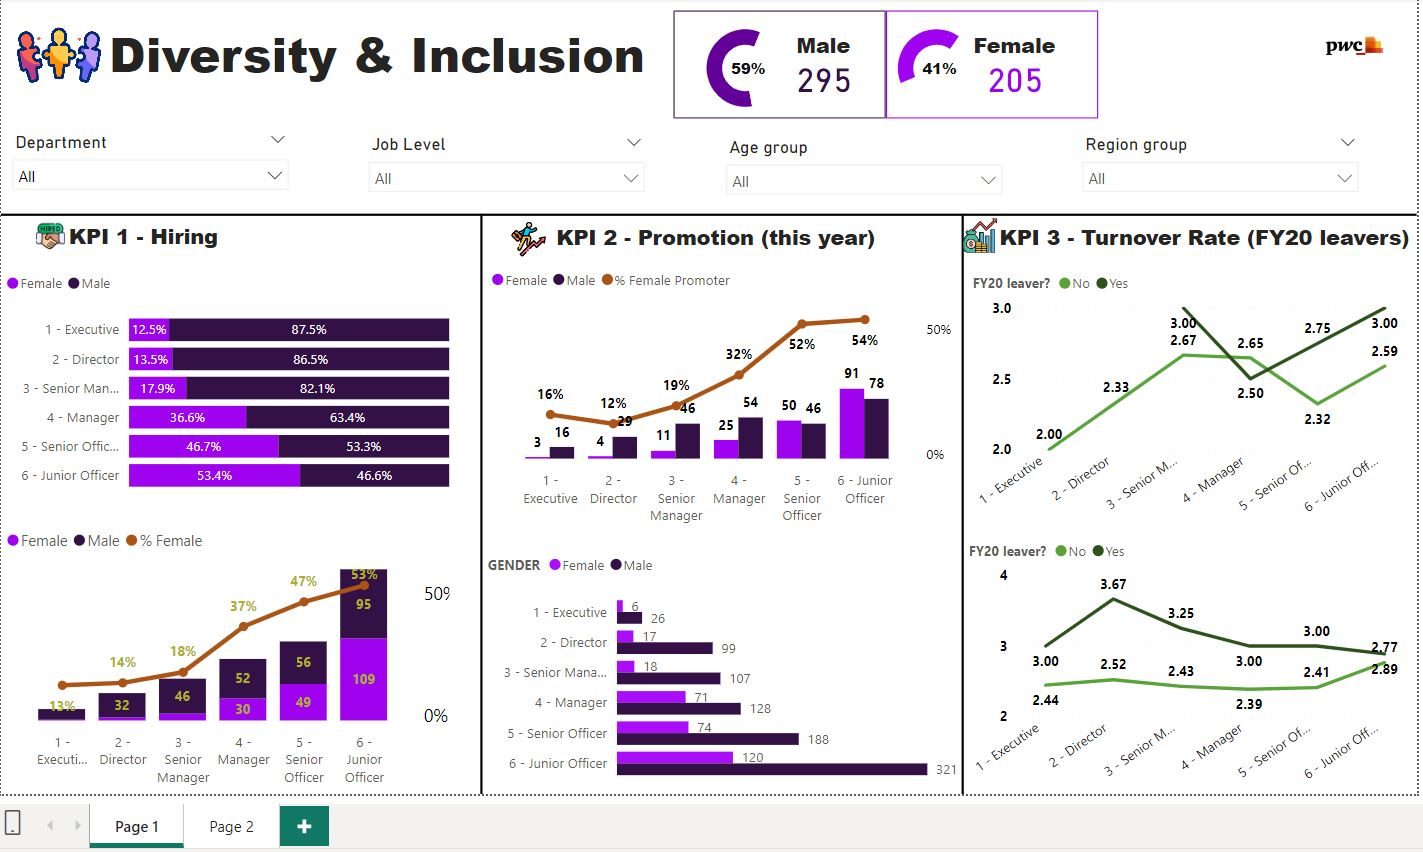

This screenshot's page, from the dashboard's own definition file:
{"tool":"powerbi","page":{"name":"Page 1","canvas":[1280,720],"ordinal":0},"visuals":[{"type":"shape","box":[800,11.6,191.9,97.7],"z":0},{"type":"card","fields":{"Values":["All Measurement.Total Male"]},"box":[694.2,44.2,101.2,57],"z":0,"group":"g1"},{"type":"card","fields":{"Values":["All Measurement.Female"]},"box":[866.3,44.2,101.2,57],"z":0,"group":"g2"},{"type":"textbox","box":[93,15.1,515.1,75.6],"z":1000},{"type":"donutChart","fields":{"Category":["Pharma Group AG.Gender"],"Y":["CountNonNull(Pharma Group AG.Employee ID)"]},"box":[623.3,15.1,100.9,97.7],"z":1000,"group":"g1"},{"type":"donutChart","fields":{"Category":["Pharma Group AG.Gender"],"Y":["CountNonNull(Pharma Group AG.Employee ID)"]},"box":[795.4,15.1,100.9,97.7],"z":1000,"group":"g2"},{"type":"textbox","box":[690.7,24.4,109.3,39.5],"z":2000,"group":"g1"},{"type":"textbox","box":[862.8,24.4,109.3,39.5],"z":2000,"group":"g2"},{"type":"slicer","fields":{"Values":["Pharma Group AG.Last Department in FY20"]},"box":[0,116.3,270,64],"z":2000},{"type":"actionButton","box":[12.8,24.4,80.2,55.8],"z":3000},{"type":"cardVisual","fields":{"Data":["All Measurement.% Male"]},"box":[639.6,30.2,74.4,60.5],"z":3000,"group":"g1"},{"type":"cardVisual","fields":{"Data":["All Measurement.% Female"]},"box":[811.7,30.2,74.4,60.5],"z":3000,"group":"g2"},{"type":"image","box":[1168.6,0,111.6,80.2],"z":4000},{"type":"shape","box":[608.1,11.6,191.9,97.7],"z":5000},{"type":"group","id":"g1","title":"Group 1","box":[623.3,15.1,176.7,97.7],"z":6000},{"type":"group","id":"g2","title":"Group 1","box":[795.4,15.1,176.7,97.7],"z":7000},{"type":"slicer","fields":{"Values":["Pharma Group AG.Age group"]},"box":[645,120.9,270,61.6],"z":8000},{"type":"slicer","fields":{"Values":["Pharma Group AG.Region group: nationality 1"]},"box":[967.4,119.1,270,64],"z":9000},{"type":"slicer","fields":{"Values":["Pharma Group AG.Job Level after FY20 promotions"]},"box":[322.5,118.1,270,63],"z":10000},{"type":"hundredPercentStackedBarChart","title":"Kpi1 Hiring","fields":{"Category":["Pharma Group AG.Job Level after FY20 promotions"],"Y":["All Measurement.Female","All Measurement.Total Male"]},"box":[0,238.4,410.5,219.8],"z":11000},{"type":"lineStackedColumnComboChart","title":"Kpi1 Hiring","fields":{"Category":["Pharma Group AG.Job Level after FY20 promotions"],"Y":["All Measurement.Female","All Measurement.Total Male"],"Y2":["All Measurement.% Female"]},"box":[0,469.8,410.5,250],"z":12000},{"type":"shape","box":[0,180.2,1280.2,32.6],"z":13000},{"type":"textbox","box":[53.5,196.5,151.2,45.3],"z":14000},{"type":"shape","box":[855.8,196.5,27.9,523.3],"z":15000},{"type":"shape","box":[420.5,196.7,27.9,523.3],"z":16000},{"type":"textbox","box":[896.5,197.7,383.7,46.5],"z":17000},{"type":"textbox","box":[457,197.7,379.1,45.3],"z":18000},{"type":"lineChart","fields":{"Category":["Pharma Group AG.Job Level after FY20 promotions"],"Y":["Avg(Pharma Group AG.FY19 Performance Rating)"],"Series":["Pharma Group AG.FY20 leaver?"]},"box":[873.3,238.4,407,240],"z":19000},{"type":"lineChart","fields":{"Category":["Pharma Group AG.Job Level after FY20 promotions"],"Y":["Avg(Pharma Group AG.FY19 Performance Rating)"],"Series":["Pharma Group AG.FY20 leaver?"]},"box":[869.8,480.2,410.5,239.5],"z":20000},{"type":"clusteredBarChart","fields":{"Category":["Pharma Group AG.Job Level after FY20 promotions"],"Y":["Sum(Pharma Group AG.Time in Job Level @01.07.2020)"],"Series":["Backing 1.GENDER"]},"box":[434.9,493,434.9,226.7],"z":21000},{"type":"lineClusteredColumnComboChart","title":"Kpi1 Hiring","fields":{"Category":["Pharma Group AG.Job Level after FY21 promotions"],"Y":["All Measurement.Female","All Measurement.Total Male"],"Y2":["All Measurement.% Female"]},"box":[438.3,235.2,426.3,248.6],"z":22000},{"type":"image","box":[27.1,197.8,35,35],"z":22001},{"type":"image","box":[456.6,197.8,40.7,40.7],"z":22002},{"type":"image","box":[864.7,194.4,40.7,40.7],"z":22003}]}

Visuals, with their boxes on the page's 1280x720 design canvas (x1, y1, x2, y2). These are canvas units, not pixel positions in the 1423x852 screenshot, which may show the page scaled, cropped or inside an application window:
shape: select_region(800, 12, 992, 109)
card - All Measurement.Total Male: select_region(694, 44, 795, 101)
card - All Measurement.Female: select_region(866, 44, 968, 101)
textbox: select_region(93, 15, 608, 91)
donutChart - Pharma Group AG.Gender x CountNonNull(Pharma Group AG.Employee ID): select_region(623, 15, 724, 113)
donutChart - Pharma Group AG.Gender x CountNonNull(Pharma Group AG.Employee ID): select_region(795, 15, 896, 113)
textbox: select_region(691, 24, 800, 64)
textbox: select_region(863, 24, 972, 64)
slicer - Pharma Group AG.Last Department in FY20: select_region(0, 116, 270, 180)
actionButton: select_region(13, 24, 93, 80)
cardVisual - All Measurement.% Male: select_region(640, 30, 714, 91)
cardVisual - All Measurement.% Female: select_region(812, 30, 886, 91)
image: select_region(1169, 0, 1280, 80)
shape: select_region(608, 12, 800, 109)
"Group 1" group: select_region(623, 15, 800, 113)
"Group 1" group: select_region(795, 15, 972, 113)
slicer - Pharma Group AG.Age group: select_region(645, 121, 915, 182)
slicer - Pharma Group AG.Region group: nationality 1: select_region(967, 119, 1237, 183)
slicer - Pharma Group AG.Job Level after FY20 promotions: select_region(322, 118, 592, 181)
"Kpi1 Hiring" hundredPercentStackedBarChart: select_region(0, 238, 410, 458)
"Kpi1 Hiring" lineStackedColumnComboChart: select_region(0, 470, 410, 720)
shape: select_region(0, 180, 1280, 213)
textbox: select_region(54, 196, 205, 242)
shape: select_region(856, 196, 884, 720)
shape: select_region(420, 197, 448, 720)
textbox: select_region(896, 198, 1280, 244)
textbox: select_region(457, 198, 836, 243)
lineChart - Pharma Group AG.Job Level after FY20 promotions x Avg(Pharma Group AG.FY19 Performance Rating): select_region(873, 238, 1280, 478)
lineChart - Pharma Group AG.Job Level after FY20 promotions x Avg(Pharma Group AG.FY19 Performance Rating): select_region(870, 480, 1280, 720)
clusteredBarChart - Pharma Group AG.Job Level after FY20 promotions x Sum(Pharma Group AG.Time in Job Level @01.07.2020): select_region(435, 493, 870, 720)
"Kpi1 Hiring" lineClusteredColumnComboChart: select_region(438, 235, 865, 484)
image: select_region(27, 198, 62, 233)
image: select_region(457, 198, 497, 238)
image: select_region(865, 194, 905, 235)
